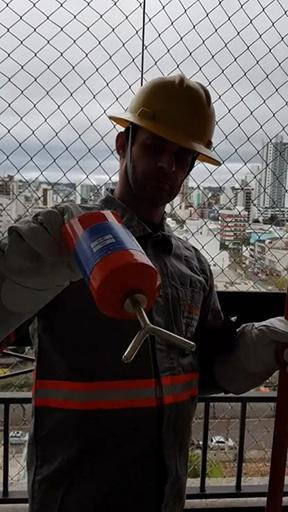Detector_Tensao_Contato: (63, 209, 195, 367)
